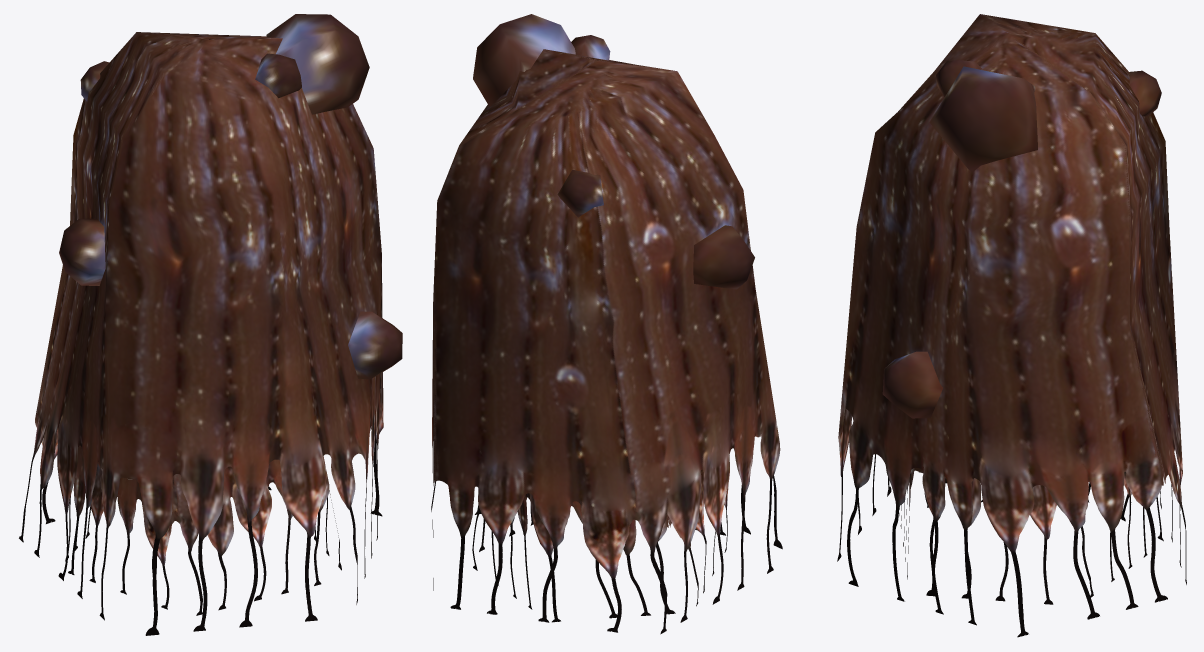
File: Plant_Plasmold_D.fbx
3 renders of one model, left to right at view 1: azimuth 30°, elevation 25°; view 2: azimuth 150°, elevation 25°; view 3: azimuth 270°, elevation 25°, orthographic. The views are drawn at different scales.
Parts seen in each view (by area): view 1: pSphere8; view 2: pSphere8; view 3: pSphere8.
Part boxes in pixels (x1,y1,x2,y2): pSphere8: [19, 14, 402, 635]; pSphere8: [431, 14, 782, 634]; pSphere8: [837, 14, 1186, 637].
Bounding box in the file's own units: 1.95 × 3.02 × 1.9.
